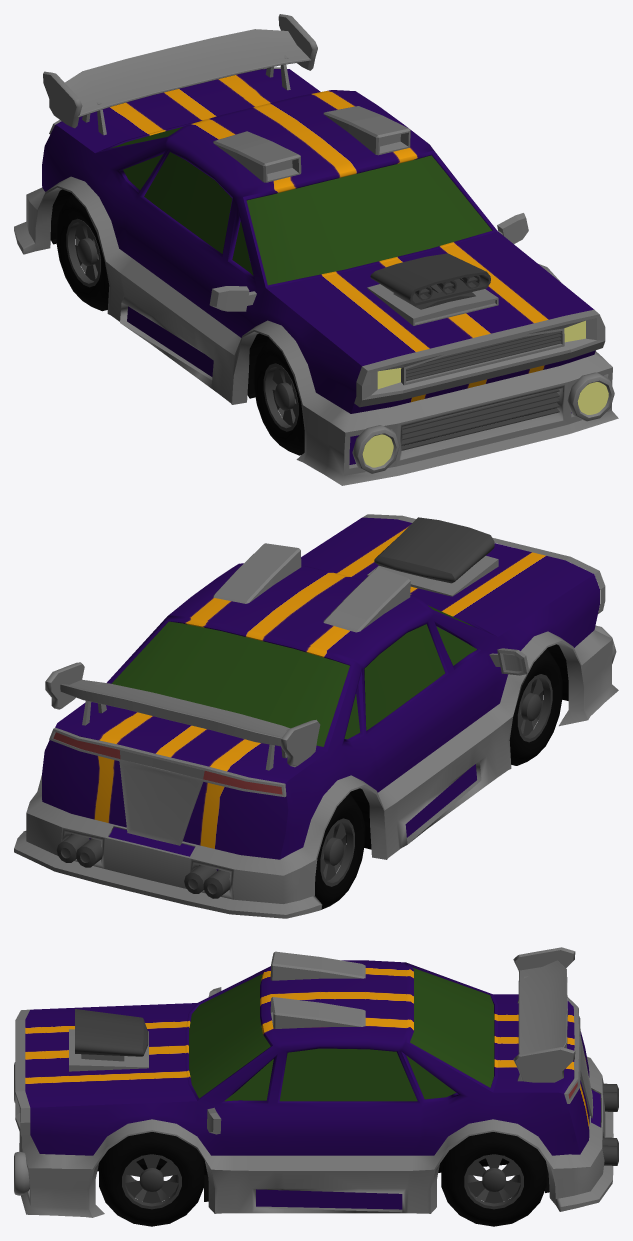
File: Muscle Evolution4 Grey TrilineOrangePurple DarkGreen DarkGrey.glb
3 views of the same model, one above another, from view 1: azimuth 30°, elevation 25°; view 2: azimuth 150°, elevation 25°; view 3: azimuth 270°, elevation 25° (orthographic). The views are drawn at different scales.
Visible parts, largest first — view 1: evo4_sillPartR_f1_dupl, evo4_evo4_polySurface1_f1_dupl, evo4_frontGlass_f1_dupl, evo4_Spoiler4_f1_dupl, evo4_frontBlockGrid_f1_dupl, evo4_glasseBigR_f1_dupl, evo4_engine_f1_dupl, evo4_front_down_grid_f1_dupl, evo4_airtrap_r_f1_dupl, evo4_airtrap_l_f1_dupl, evo4_front_up_grid_f1_dupl, evo4_tire_rf_f1_dupl (+11 smaller); view 2: evo4_sillPartR_f1_dupl, evo4_evo4_polySurface1_f1_dupl, evo4_BackGlassGlass_f1_dupl, evo4_Spoiler4_f1_dupl, evo4_blockBackLights_f1_dupl, evo4_engine_f1_dupl, evo4_glasseBigR_f1_dupl, evo4_airtrap_r_f1_dupl, evo4_airtrap_l_f1_dupl, evo4_tire_rf2_f1_dupl, evo4_tire_rf_f1_dupl, evo4_rim_A_rf_f1_dupl (+9 smaller); view 3: evo4_sillPartR_f1_dupl, evo4_evo4_polySurface1_f1_dupl, evo4_BackGlassGlass_f1_dupl, evo4_Spoiler4_f1_dupl, evo4_glasseBigL_f1_dupl, evo4_frontGlass_f1_dupl, evo4_tire_lf_f1_dupl, evo4_tire_lb_f1_dupl, evo4_engine_f1_dupl, evo4_rim_A_lf_f1_dupl, evo4_rim_A_lb_f1_dupl, evo4_airtrap_l_f1_dupl (+9 smaller).
Part boxes in pixels (x1,y1,x2,y2): evo4_sillPartR_f1_dupl: [42, 69, 595, 464]; evo4_evo4_polySurface1_f1_dupl: [14, 176, 618, 485]; evo4_frontGlass_f1_dupl: [246, 155, 491, 285]; evo4_Spoiler4_f1_dupl: [43, 14, 317, 135]; evo4_frontBlockGrid_f1_dupl: [354, 309, 605, 407]; evo4_glasseBigR_f1_dupl: [144, 152, 232, 253]; evo4_engine_f1_dupl: [370, 253, 490, 309]; evo4_front_down_grid_f1_dupl: [401, 389, 559, 450]; evo4_airtrap_r_f1_dupl: [213, 131, 301, 182]; evo4_airtrap_l_f1_dupl: [323, 106, 410, 155]; evo4_front_up_grid_f1_dupl: [406, 331, 561, 381]; evo4_tire_rf_f1_dupl: [56, 194, 109, 311]; evo4_sillPartR_f1_dupl: [42, 517, 599, 870]; evo4_evo4_polySurface1_f1_dupl: [14, 630, 618, 918]; evo4_BackGlassGlass_f1_dupl: [111, 621, 349, 746]; evo4_Spoiler4_f1_dupl: [45, 662, 320, 770]; evo4_blockBackLights_f1_dupl: [49, 727, 286, 845]; evo4_engine_f1_dupl: [374, 517, 494, 583]; evo4_glasseBigR_f1_dupl: [364, 624, 444, 730]; evo4_airtrap_r_f1_dupl: [323, 567, 410, 632]; evo4_airtrap_l_f1_dupl: [213, 543, 301, 603]; evo4_tire_rf2_f1_dupl: [509, 648, 562, 765]; evo4_tire_rf_f1_dupl: [315, 793, 365, 909]; evo4_rim_A_rf_f1_dupl: [517, 674, 552, 742]; evo4_sillPartR_f1_dupl: [25, 960, 600, 1209]; evo4_evo4_polySurface1_f1_dupl: [19, 1056, 613, 1217]; evo4_BackGlassGlass_f1_dupl: [410, 967, 494, 1087]; evo4_Spoiler4_f1_dupl: [513, 947, 575, 1082]; evo4_glasseBigL_f1_dupl: [279, 1048, 417, 1101]; evo4_frontGlass_f1_dupl: [189, 974, 270, 1098]; evo4_tire_lf_f1_dupl: [99, 1132, 204, 1226]; evo4_tire_lb_f1_dupl: [441, 1132, 546, 1226]; evo4_engine_f1_dupl: [75, 1009, 148, 1061]; evo4_rim_A_lf_f1_dupl: [122, 1154, 181, 1209]; evo4_rim_A_lb_f1_dupl: [464, 1154, 523, 1209]; evo4_airtrap_l_f1_dupl: [270, 997, 365, 1028].
Size of the model in its own units: 177 by 120 by 337.
Materials: 8 (1 with a texture image).
